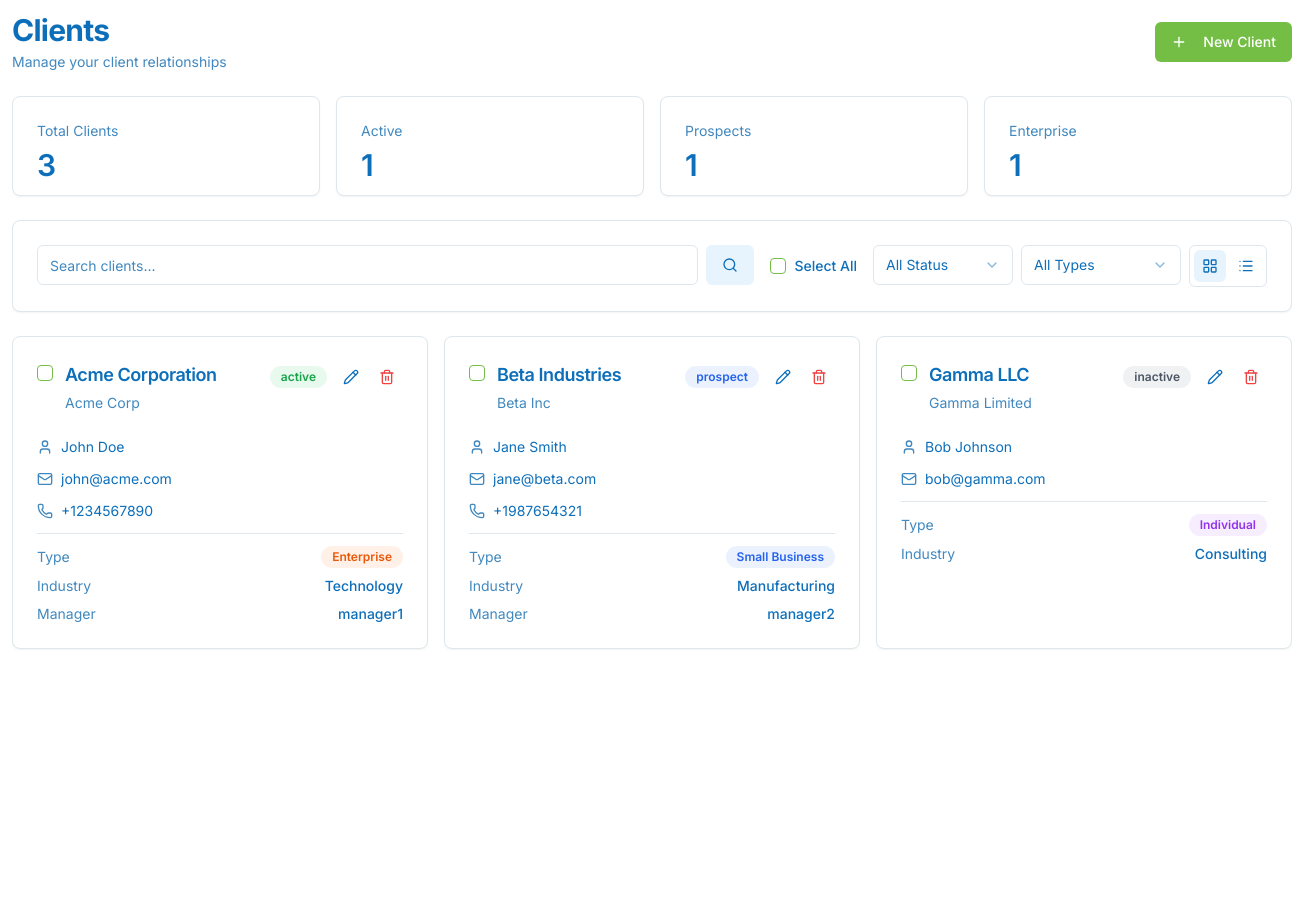
Scenario: ClientsPage › Client Selection › selects individual clients
The image size is (1304, 912).
Expected: the text "Acme Corporation" is shown, [65, 364, 217, 385]
Step 1. Click the checkbox next to "Acme Corporation" → (45, 373), box [37, 365, 53, 381]
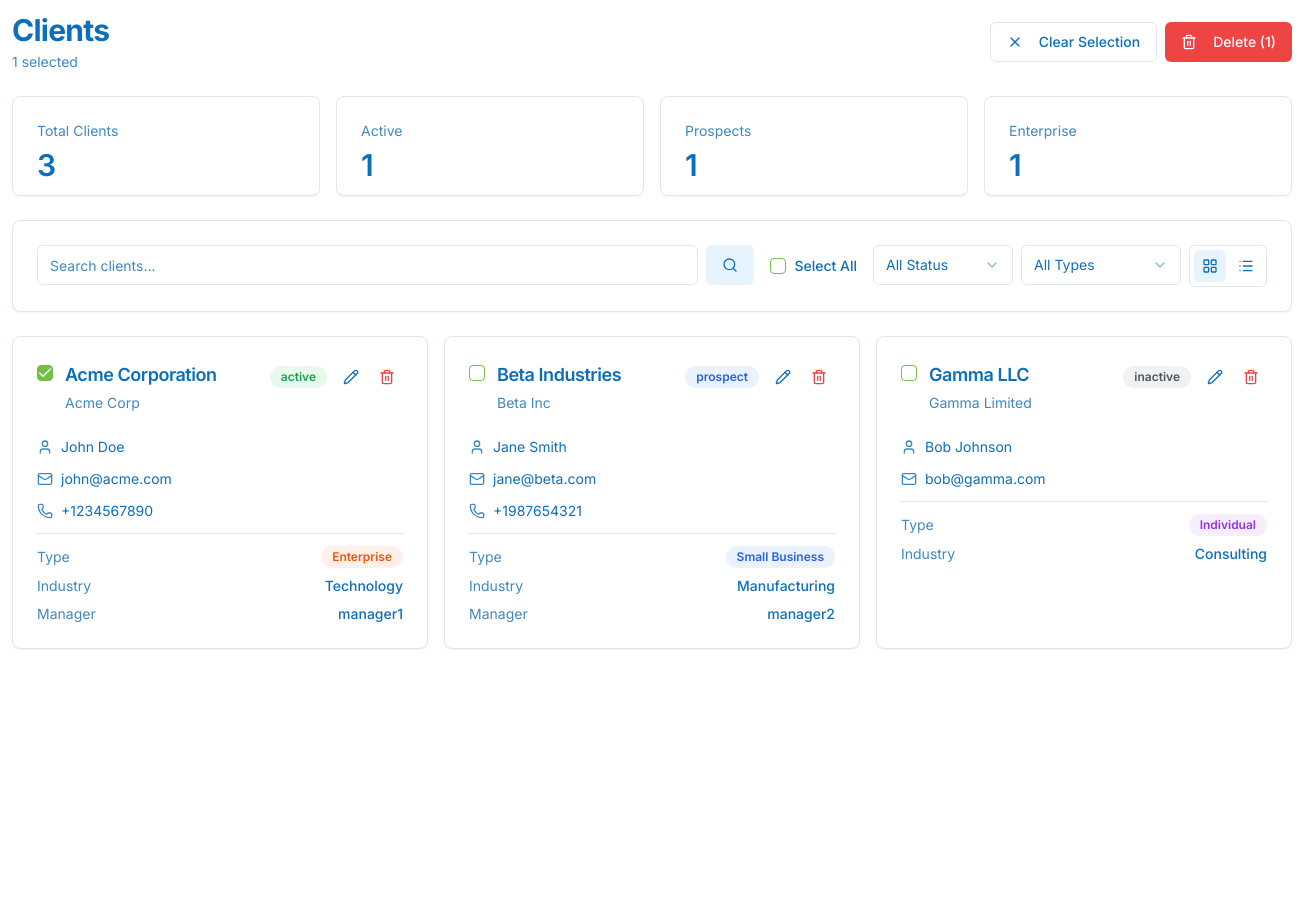
Expected: the text "1 selected" is shown, [12, 53, 78, 70]
